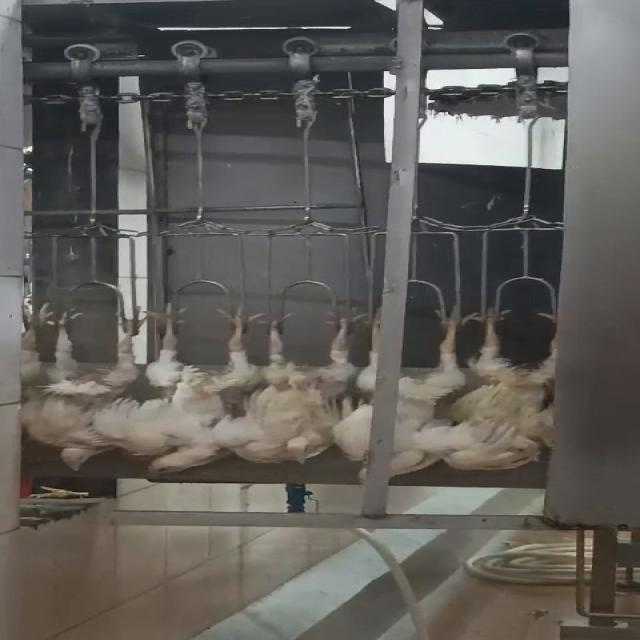chicken: (332, 311, 492, 489), (4, 296, 158, 478), (121, 298, 272, 476), (441, 304, 579, 474), (240, 310, 368, 472)
